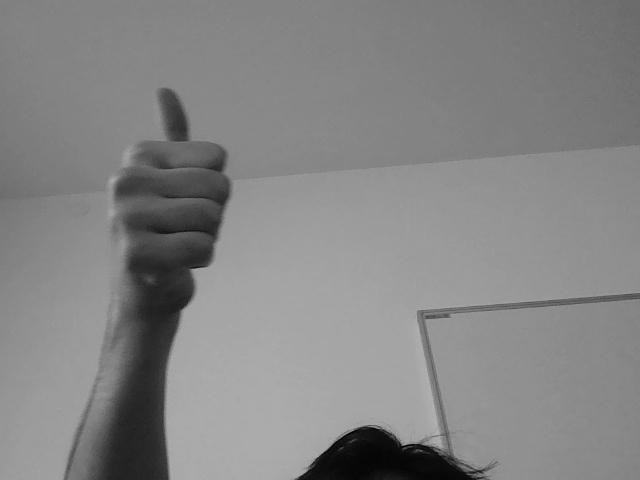good: (93, 82, 238, 327)
